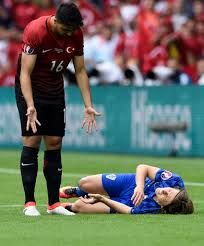10+: (1, 1, 203, 217)
down: (55, 160, 198, 218)
